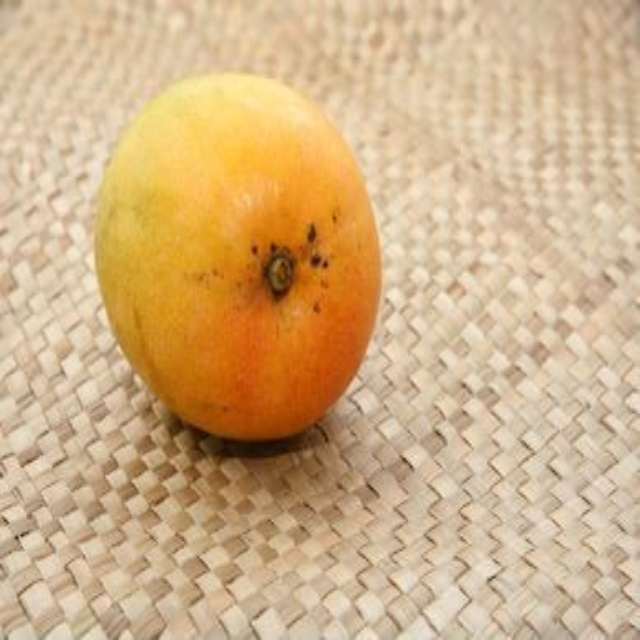mango: (90, 76, 384, 441)
